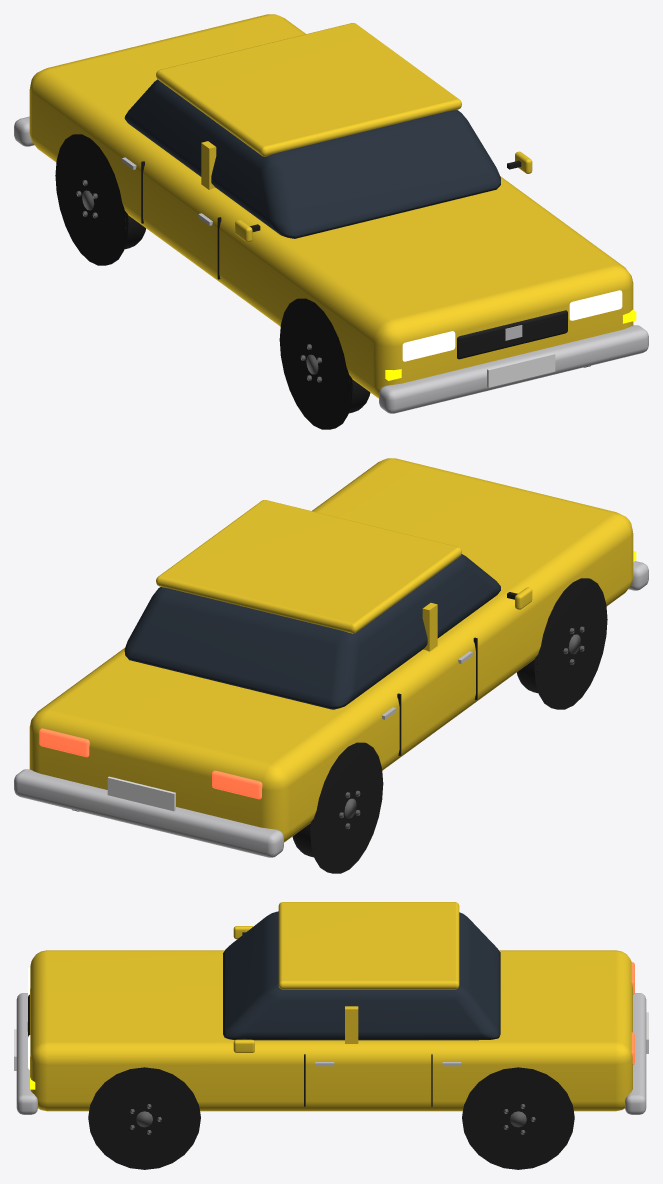
The model's file is getaway.glb.
The picture shows the model from 3 angles, top to bottom: view 1: azimuth 30°, elevation 25°; view 2: azimuth 150°, elevation 25°; view 3: azimuth 270°, elevation 25°; orthographic projection. The views are drawn at different scales.
Parts seen in each view (by area): view 1: V_getaway; view 2: V_getaway; view 3: V_getaway.
Boxes of the visible parts, x1,y1,x2,y2 form: V_getaway: [14, 14, 648, 429]; V_getaway: [14, 458, 648, 873]; V_getaway: [14, 902, 648, 1169].
Size of the model in its own units: 2.06 by 1.44 by 4.74.
